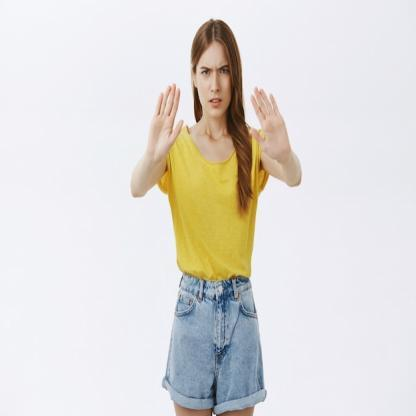stop: (247, 83, 291, 162), (144, 80, 185, 164)
